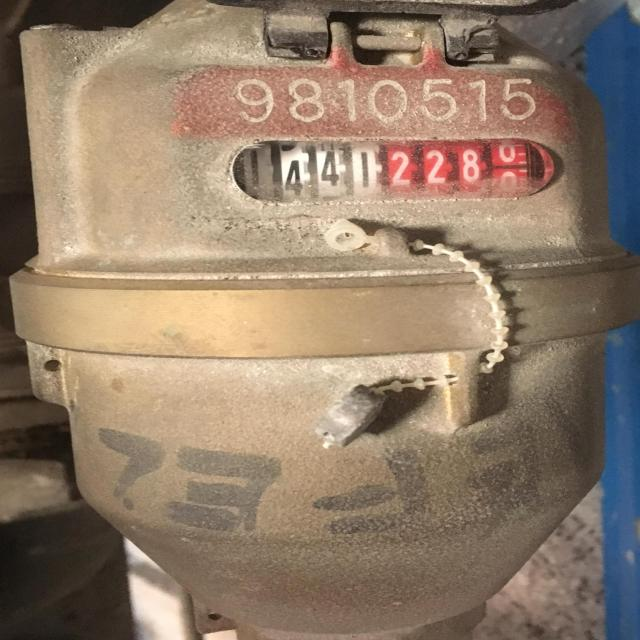gaz_meter: (34, 38, 605, 269)
indication: (251, 139, 534, 198)
